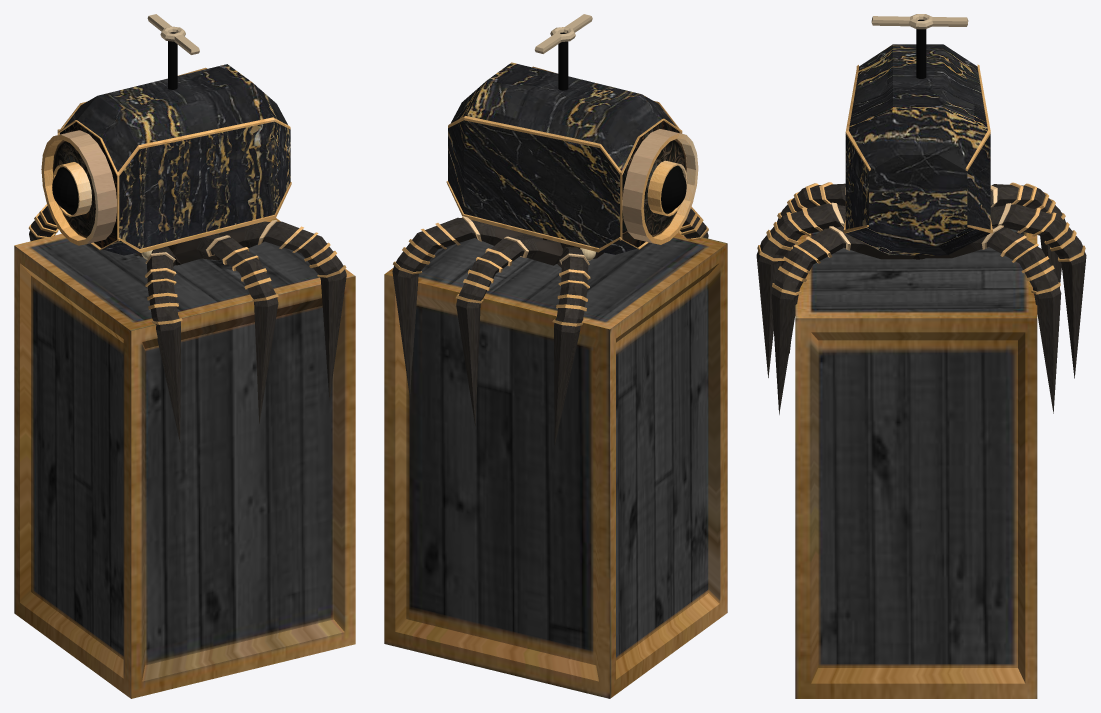
File: Spider.glb
3 renders of one model, left to right at view 1: azimuth 30°, elevation 25°; view 2: azimuth 150°, elevation 25°; view 3: azimuth 270°, elevation 25°, orthographic. The views are drawn at different scales.
Parts seen in each view (by area): view 1: pCube1, pCylinder2, pCylinder1, leg, pasted__pasted__pasted__pasted__pasted__pasted__pasted__62ca, pasted__pasted__pasted__pasted__pasted__pasted__pCylinder3, pSphere2, Elica, pasted__pasted__pasted__pasted__pasted__pasted__pasted__aed6; view 2: pCube1, pCylinder2, pCylinder1, pasted__pasted__pasted__pasted__pasted__pasted__pasted__28a8, pasted__pasted__pasted__pasted__pasted__pasted__pasted__c4f9, pasted__pasted__pasted__pasted__pasted__pasted__pasted__aed6, pSphere2, Elica, pasted__pasted__pasted__pasted__pasted__pasted__pCylinder3, pCylinder6; view 3: pCube1, pCylinder2, leg, pasted__pasted__pasted__pasted__pasted__pasted__pasted__28a8, pasted__pasted__pasted__pasted__pasted__pasted__pasted__c4f9, pasted__pasted__pasted__pasted__pasted__pasted__pasted__62ca, pasted__pasted__pasted__pasted__pasted__pasted__pasted__aed6, pasted__pasted__pasted__pasted__pasted__pasted__pCylinder3, Elica, pCylinder6.
Part boxes in pixels (bbox=[...]): pCube1: bbox=[14, 218, 355, 698]; pCylinder2: bbox=[57, 64, 291, 255]; pCylinder1: bbox=[41, 130, 116, 245]; leg: bbox=[201, 220, 346, 400]; pasted__pasted__pasted__pasted__pasted__pasted__pasted__62ca: bbox=[172, 234, 278, 423]; pasted__pasted__pasted__pasted__pasted__pasted__pCylinder3: bbox=[145, 246, 182, 442]; pSphere2: bbox=[52, 169, 76, 211]; Elica: bbox=[147, 14, 199, 54]; pasted__pasted__pasted__pasted__pasted__pasted__pasted__aed6: bbox=[28, 204, 142, 256]; pCube1: bbox=[384, 217, 727, 698]; pCylinder2: bbox=[446, 62, 682, 254]; pCylinder1: bbox=[622, 129, 698, 244]; pasted__pasted__pasted__pasted__pasted__pasted__pasted__28a8: bbox=[392, 216, 542, 397]; pasted__pasted__pasted__pasted__pasted__pasted__pasted__c4f9: bbox=[456, 234, 562, 426]; pasted__pasted__pasted__pasted__pasted__pasted__pasted__aed6: bbox=[552, 246, 590, 445]; pSphere2: bbox=[661, 169, 686, 211]; Elica: bbox=[534, 14, 592, 53]; pasted__pasted__pasted__pasted__pasted__pasted__pCylinder3: bbox=[593, 206, 708, 258]; pCylinder6: bbox=[558, 32, 568, 90]; pCube1: bbox=[795, 226, 1037, 698]; pCylinder2: bbox=[843, 44, 992, 255]; leg: bbox=[771, 226, 914, 414]; pasted__pasted__pasted__pasted__pasted__pasted__pasted__28a8: bbox=[918, 225, 1061, 413]; pasted__pasted__pasted__pasted__pasted__pasted__pasted__c4f9: bbox=[990, 203, 1086, 378]; pasted__pasted__pasted__pasted__pasted__pasted__pasted__62ca: bbox=[756, 202, 845, 377]; pasted__pasted__pasted__pasted__pasted__pasted__pasted__aed6: bbox=[990, 182, 1065, 288]; pasted__pasted__pasted__pasted__pasted__pasted__pCylinder3: bbox=[777, 182, 845, 353]; Elica: bbox=[871, 14, 968, 29]; pCylinder6: bbox=[916, 19, 926, 78].
Size of the model in its own units: 0.6658 by 1.58 by 0.7643.
14 materials, 9 textured.
